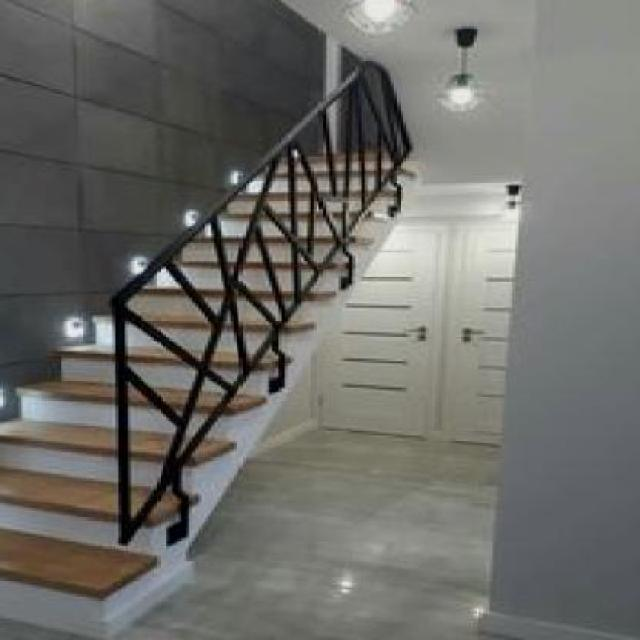stair: (3, 97, 448, 626)
